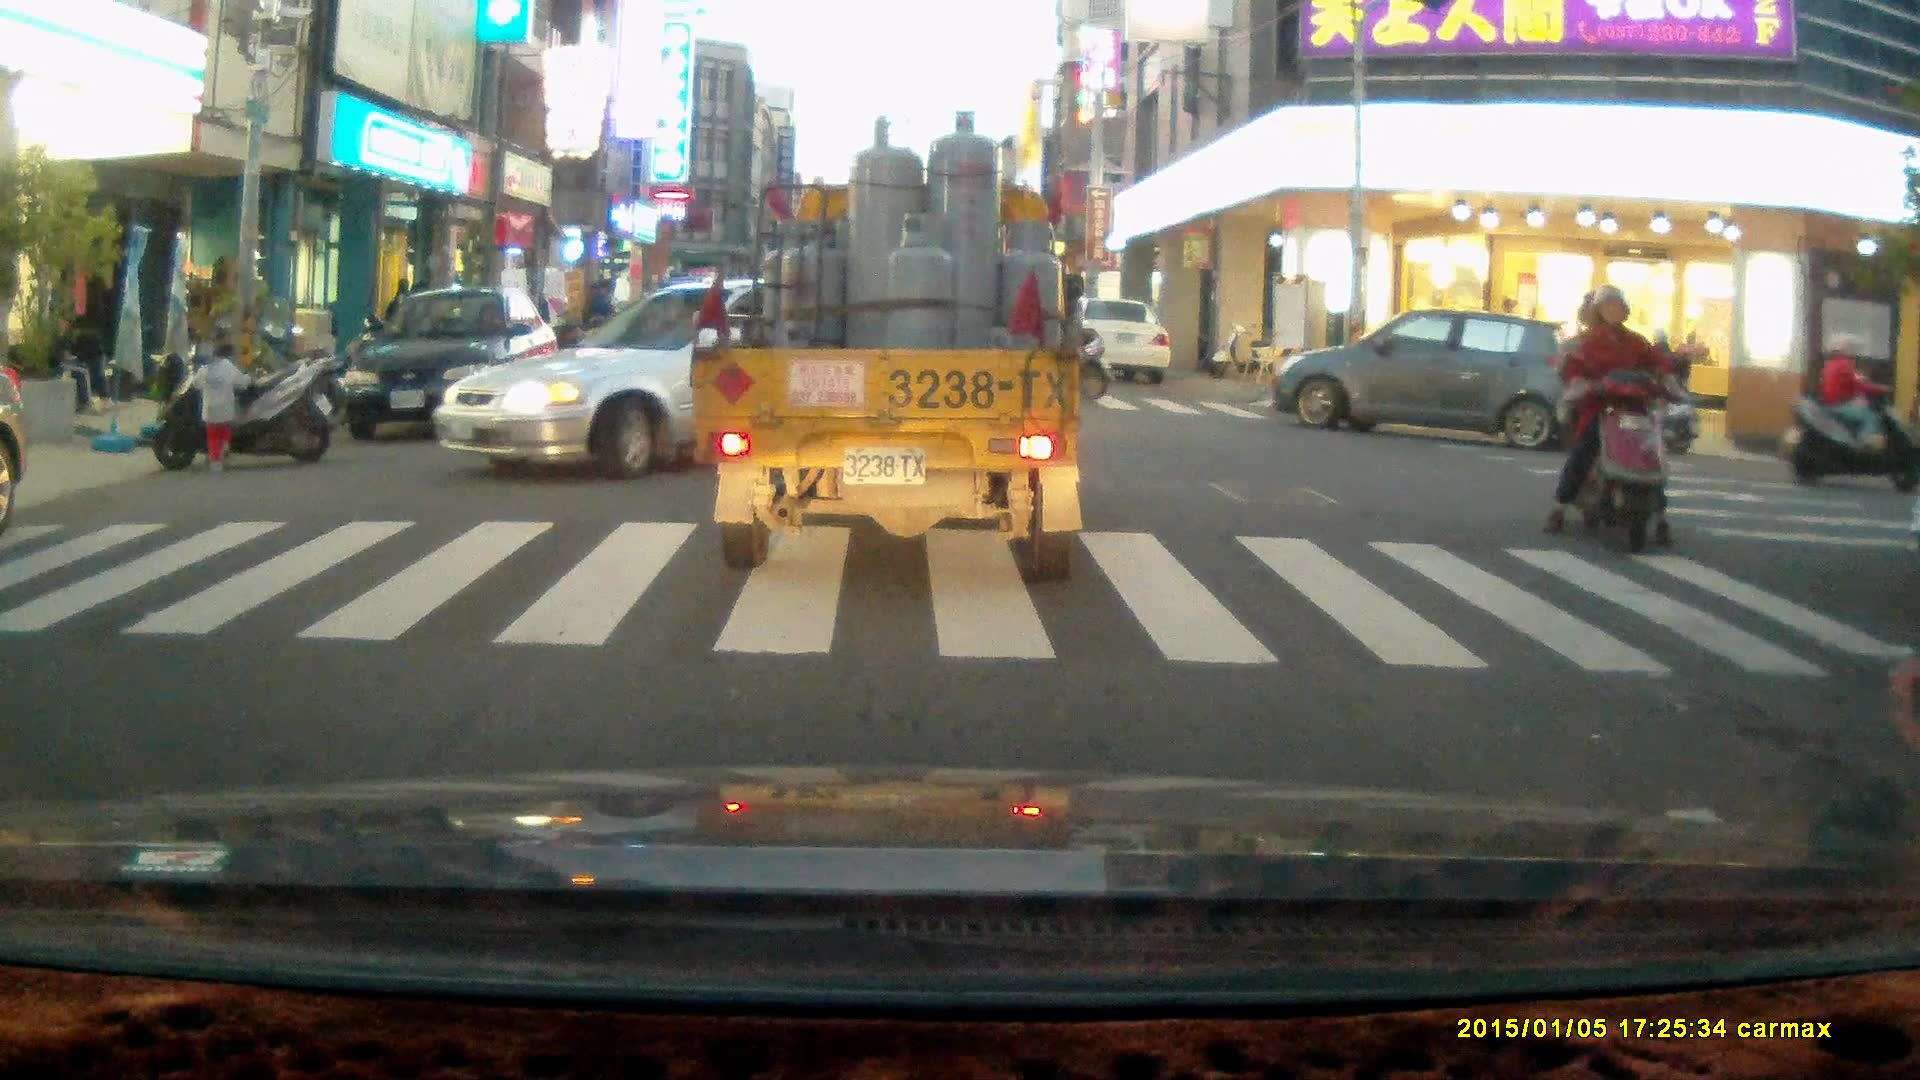pedestrian: (190, 338, 248, 470), (590, 278, 617, 340)
rider: (1539, 286, 1675, 555), (1781, 327, 1920, 490), (1581, 324, 1695, 455)
vehicle: (691, 111, 1087, 586), (434, 279, 972, 476), (1266, 309, 1593, 451), (337, 286, 562, 440), (1068, 297, 1173, 383)
